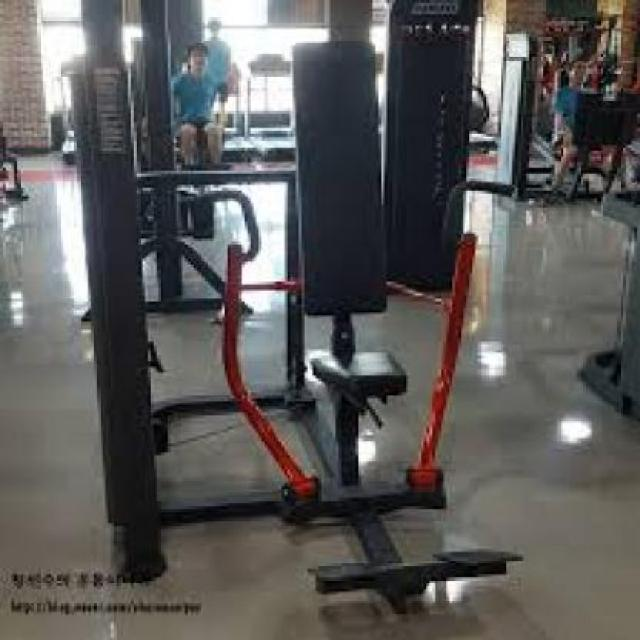Chest Press machine: (74, 0, 532, 623)
